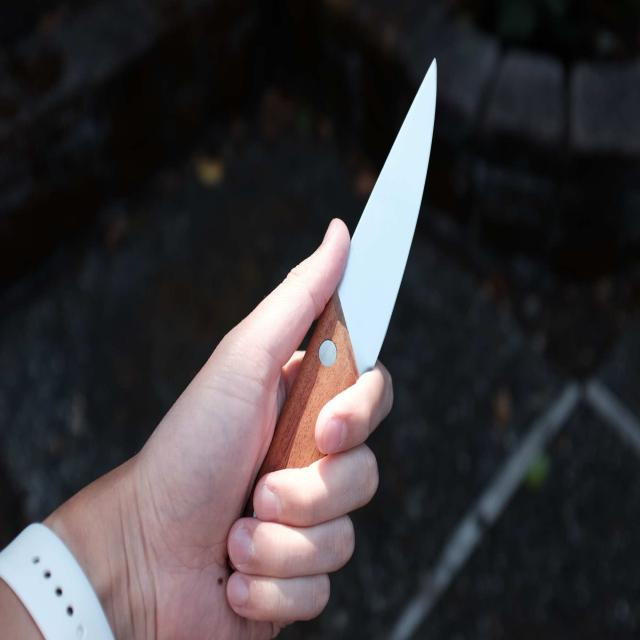knife: (266, 46, 443, 483)
